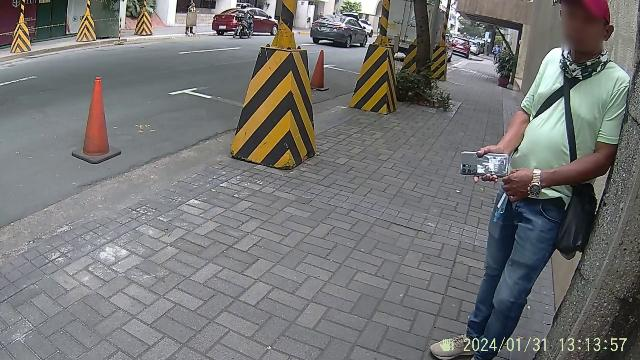construction_materials: (225, 0, 331, 170), (66, 70, 126, 166), (350, 0, 400, 114), (8, 0, 34, 56), (74, 0, 99, 44), (311, 44, 331, 98), (132, 0, 156, 34), (432, 45, 450, 79)
potted_plant: (496, 50, 516, 90)
tree: (412, 0, 432, 100)
